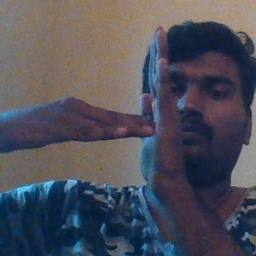Z: (80, 25, 187, 189)
